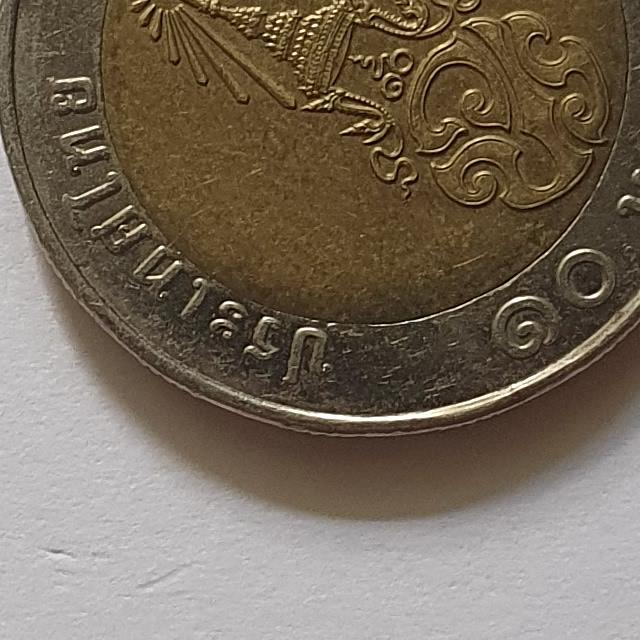10 Bath: (2, 1, 640, 448)
